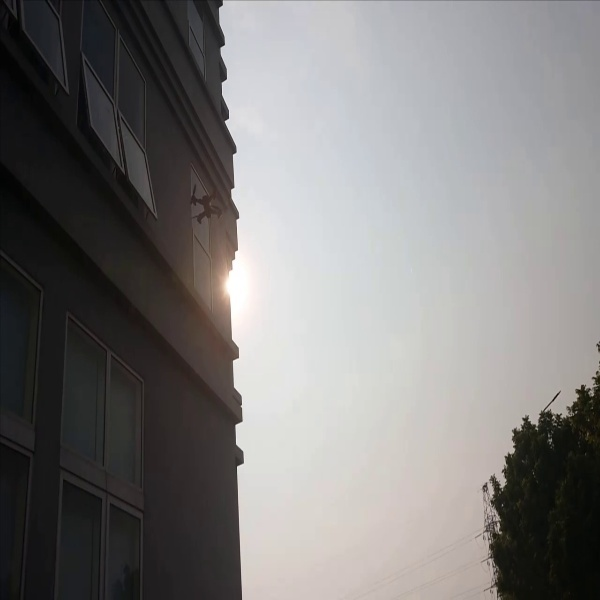drone: (185, 177, 231, 226)
